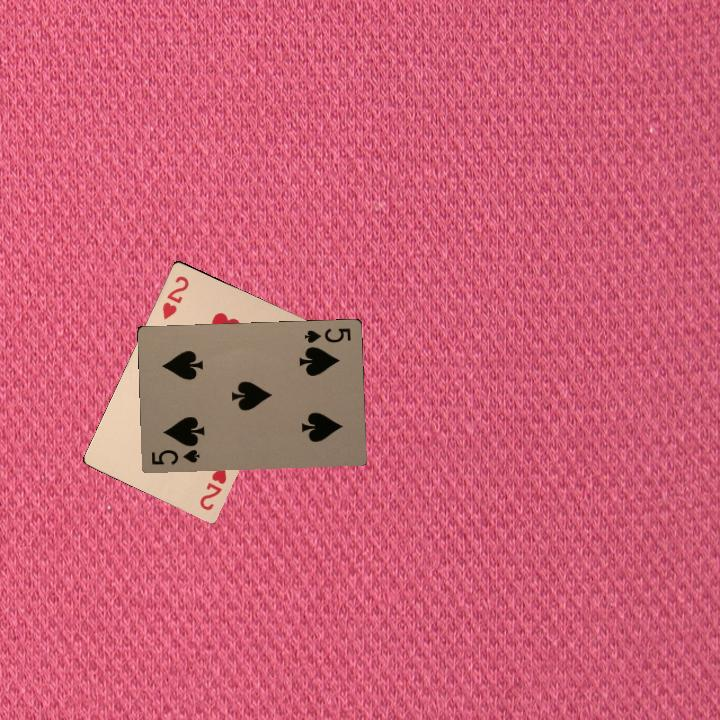2h: (195, 462, 229, 513), (158, 272, 192, 322)
5s: (148, 446, 203, 467), (301, 324, 353, 346)
